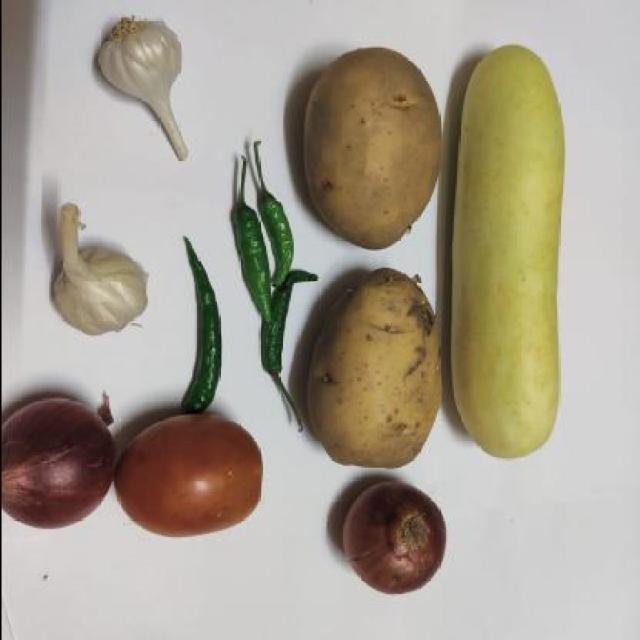Garlic: (36, 182, 162, 346), (78, 3, 202, 163)
Green Chili: (229, 109, 309, 429), (170, 244, 218, 418)
Onion: (0, 386, 115, 538), (326, 474, 456, 597)
Potato: (299, 12, 443, 265), (297, 258, 454, 480)
Tomato: (112, 406, 260, 543)
cucumber: (435, 17, 571, 469)
